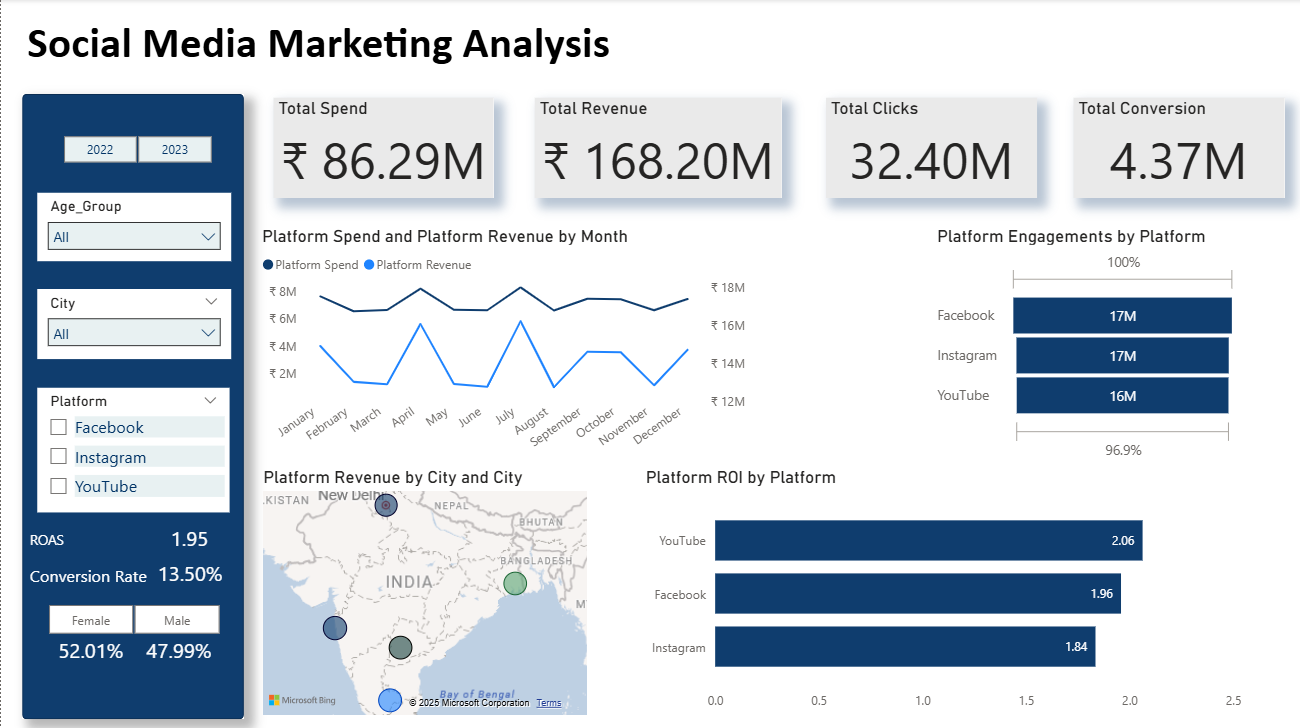

Layout of this report page (visuals, bound fields, positions):
{"tool":"powerbi","page":{"name":"Analysis","canvas":[1280,720],"ordinal":0},"visuals":[{"type":"shape","box":[21.8,14.5,1238.3,55.7],"z":0},{"type":"shape","box":[21.2,93.8,217.5,613.8],"z":1000},{"type":"slicer","fields":{"Values":["Dim_Demographics.Age_Group"]},"box":[35,189.7,190,67.5],"z":2000},{"type":"slicer","fields":{"Values":["Dim_Geography.City"]},"box":[35,284.7,190,68.8],"z":3000},{"type":"slicer","fields":{"Values":["Dim_Platform.Platform"]},"box":[35.6,382.2,189,122.7],"z":4000},{"type":"card","title":"Total Spend","fields":{"Values":["Dim_Platform.Platform Spend"]},"box":[267.5,97.5,216.2,98.8],"z":5000},{"type":"card","title":"Total Revenue","fields":{"Values":["Dim_Platform.Platform Revenue"]},"box":[523.8,97.5,242.5,98.8],"z":6000},{"type":"card","title":"ROAS","fields":{"Values":["Dim_Platform.Platform ROAS"]},"box":[144.8,517.2,81,33.1],"z":7000},{"type":"card","title":"Total Conversion","fields":{"Values":["Dim_Platform.Platform Conversions"]},"box":[1052.5,97.5,207.5,98.8],"z":8000},{"type":"card","title":"Total Clicks","fields":{"Values":["Dim_Platform.Platform Clicks"]},"box":[810,97.5,207.5,98.8],"z":9000},{"type":"card","fields":{"Values":["Dim_Platform.Platform Conversion Rate"]},"box":[146,551.5,79.8,33.1],"z":10000},{"type":"textbox","box":[23.3,550.3,136.2,33.1],"z":11000},{"type":"textbox","box":[23.3,517.2,136.2,33.1],"z":12000},{"type":"lineChart","fields":{"Y2":["Dim_Platform.Platform Revenue"],"Category":["DateTable.Month"],"Y":["Dim_Platform.Platform Spend"]},"box":[251.5,222.1,484.7,236.8],"z":13000},{"type":"funnel","fields":{"Category":["Dim_Platform.Platform"],"Y":["Dim_Platform.Platform Engagements"]},"box":[914.1,222.1,304.3,236.8],"z":14000},{"type":"map","fields":{"Category":["Dim_Geography.City"],"Series":["Dim_Geography.City"],"Size":["Dim_Platform.Platform Revenue"]},"box":[252.5,458.8,327.5,248.8],"z":15000},{"type":"card","fields":{"Values":["Dim_Demographics.% Female"]},"box":[46.2,630,83.8,27.5],"z":16000},{"type":"card","fields":{"Values":["Dim_Demographics.% Male"]},"box":[132.5,630,85,27.5],"z":17000},{"type":"clusteredBarChart","fields":{"Category":["Dim_Platform.Platform"],"Y":["Dim_Platform.Platform ROI"]},"box":[628.8,458.8,608.8,248.8],"z":20000},{"type":"slicer","fields":{"Values":["DateTable.Year"]},"box":[35,127.5,195,38.8],"z":21000},{"type":"slicer","fields":{"Values":["Dim_Demographics.Gender"]},"box":[21.2,587.5,217.5,42.5],"z":22000},{"type":"textbox","box":[319,6.1,625.8,72.4],"z":22001}]}

Visuals, with their boxes in screenshot pixels (x1, y1, x2, y2), scaled from the page's 1280x720 canvas onto the 1300x728 screenshot:
shape: l=22, t=15, r=1280, b=71
shape: l=22, t=95, r=242, b=715
slicer - Dim_Demographics.Age_Group: l=36, t=192, r=229, b=260
slicer - Dim_Geography.City: l=36, t=288, r=229, b=357
slicer - Dim_Platform.Platform: l=36, t=386, r=228, b=511
"Total Spend" card: l=272, t=99, r=491, b=198
"Total Revenue" card: l=532, t=99, r=778, b=198
"ROAS" card: l=147, t=523, r=229, b=556
"Total Conversion" card: l=1069, t=99, r=1280, b=198
"Total Clicks" card: l=823, t=99, r=1033, b=198
card - Dim_Platform.Platform Conversion Rate: l=148, t=558, r=229, b=591
textbox: l=24, t=556, r=162, b=590
textbox: l=24, t=523, r=162, b=556
lineChart - Dim_Platform.Platform Revenue x DateTable.Month: l=255, t=225, r=748, b=464
funnel - Dim_Platform.Platform x Dim_Platform.Platform Engagements: l=928, t=225, r=1237, b=464
map - Dim_Geography.City x Dim_Geography.City: l=256, t=464, r=589, b=715
card - Dim_Demographics.% Female: l=47, t=637, r=132, b=665
card - Dim_Demographics.% Male: l=135, t=637, r=221, b=665
clusteredBarChart - Dim_Platform.Platform x Dim_Platform.Platform ROI: l=639, t=464, r=1257, b=715
slicer - DateTable.Year: l=36, t=129, r=234, b=168
slicer - Dim_Demographics.Gender: l=22, t=594, r=242, b=637
textbox: l=324, t=6, r=960, b=79
